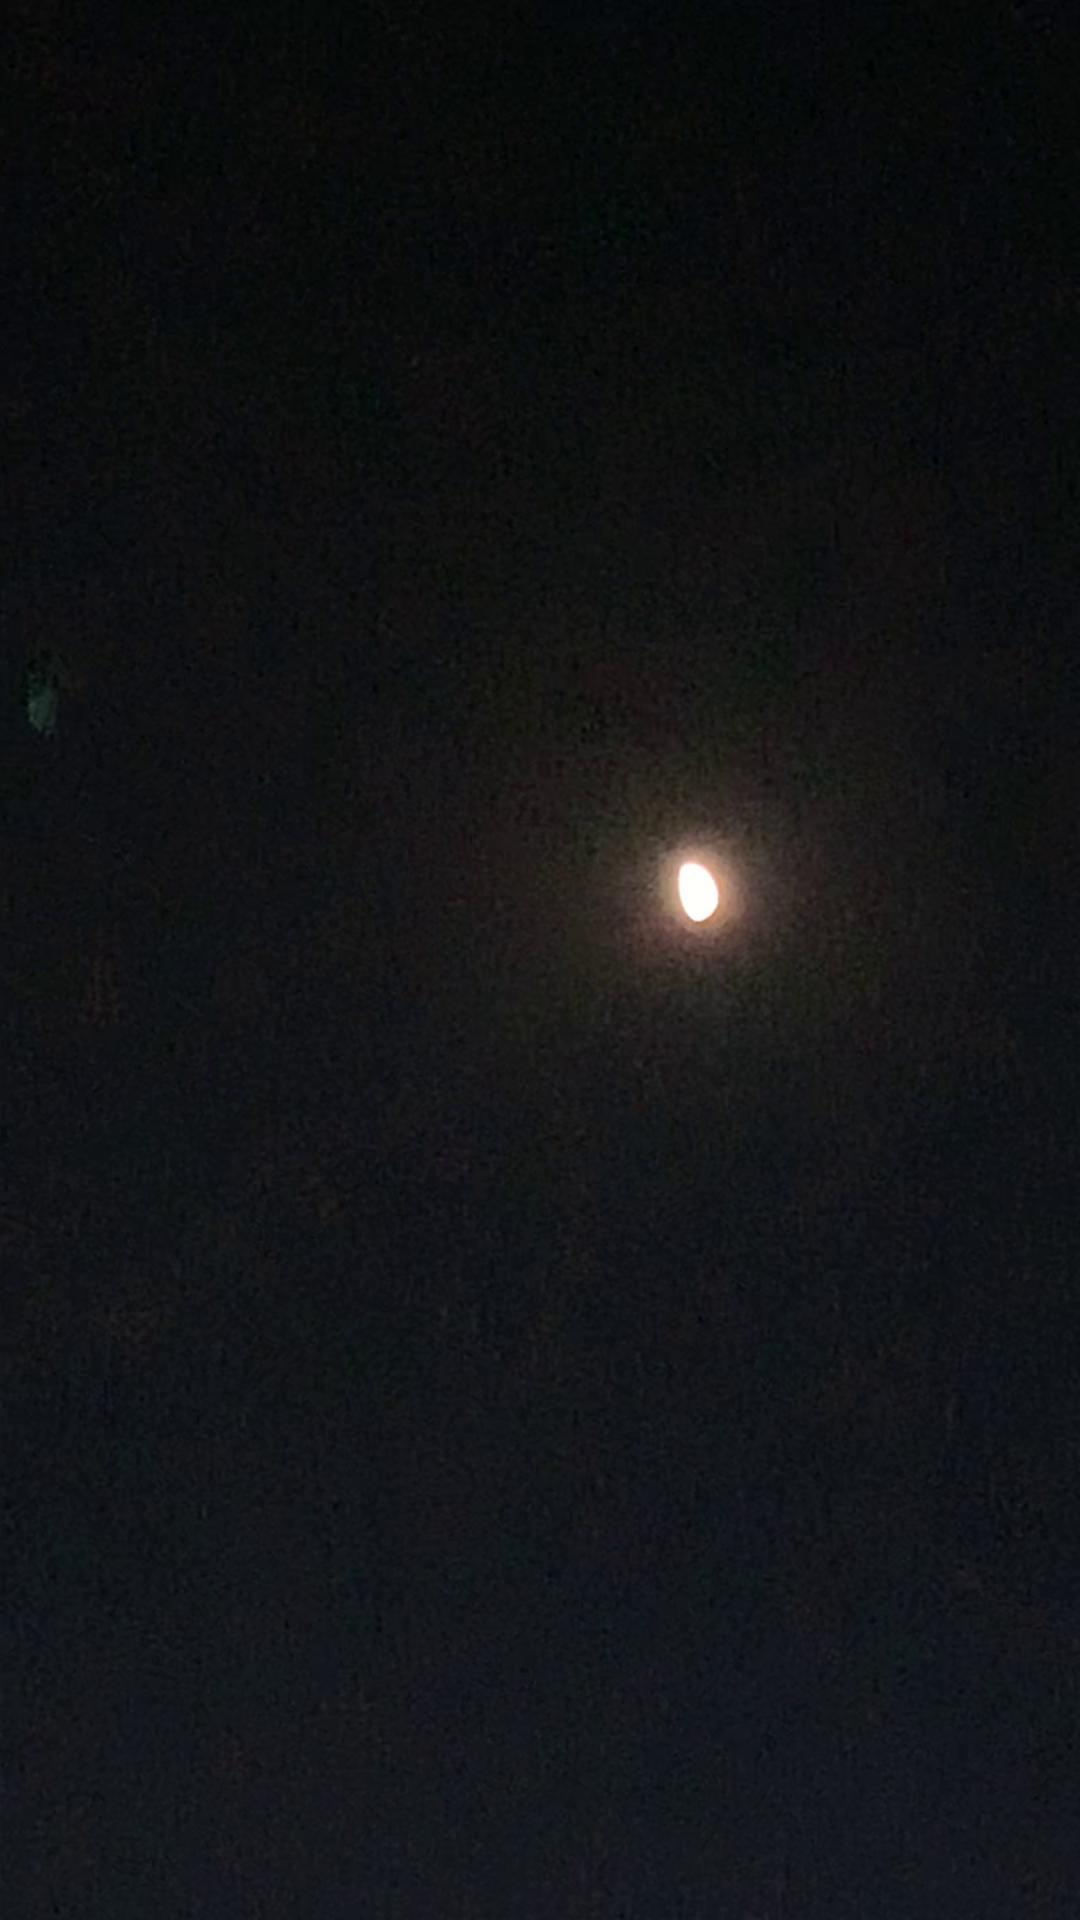moon: (653, 845, 742, 927)
